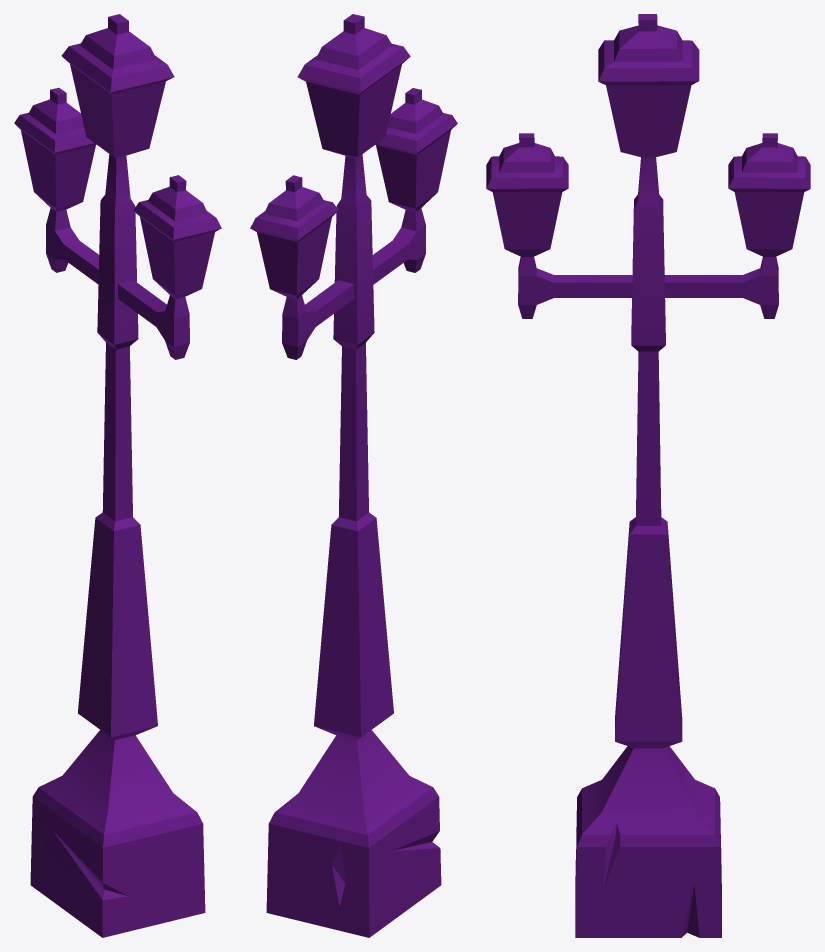
Rendered from lampost2.FBX.
The picture shows the model from 3 angles, left to right: view 1: azimuth 30°, elevation 25°; view 2: azimuth 150°, elevation 25°; view 3: azimuth 270°, elevation 25°; orthographic projection.
Parts seen in each view (by area): view 1: Cylinder001; view 2: Cylinder001; view 3: Cylinder001.
Boxes of the visible parts, x1,y1,x2,y2 form: Cylinder001: (14,14,221,937); Cylinder001: (250,14,457,937); Cylinder001: (486,14,810,937).
Bounding box in the file's own units: 43.34 × 355 × 116.
